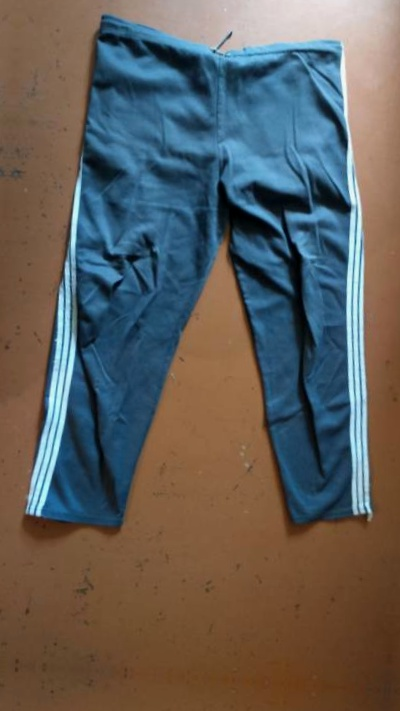Pants: (8, 0, 400, 555)
